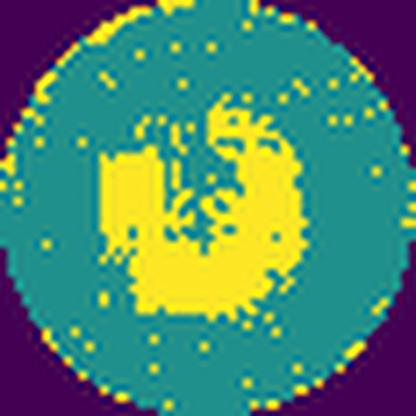Donut: (93, 88, 312, 322)
